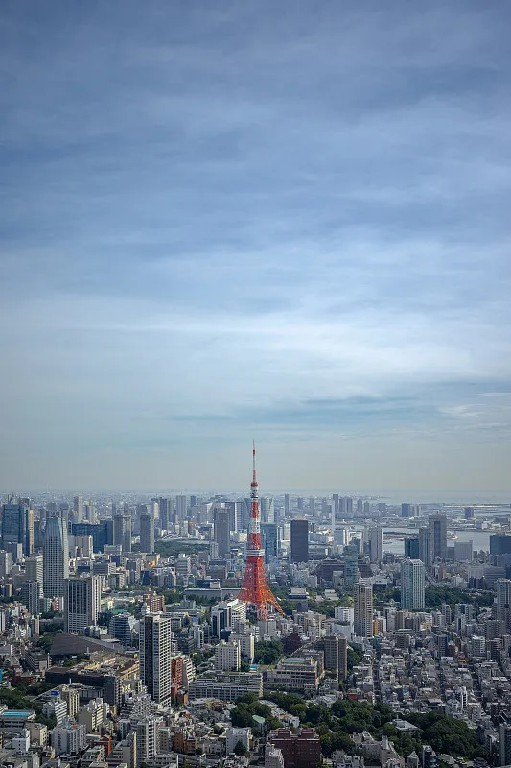Tokyo: (239, 438, 284, 616)
